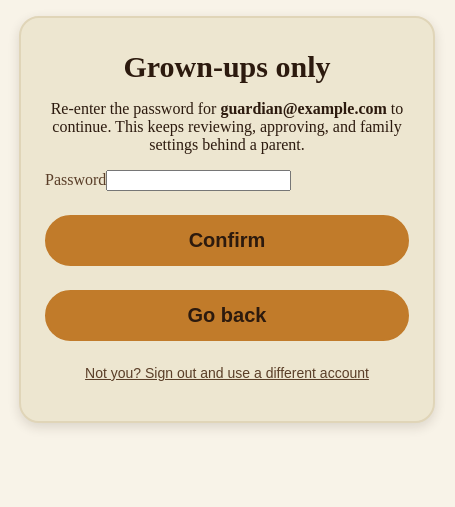
Test: AdultGate › reports a rate limit distinctly, without inviting an instant retry
Check: the heading "Grown-ups only" is shown, box [124, 50, 330, 83]
Type "whatever" into the password field labelled "Password" at (199, 180), box [106, 170, 291, 191]
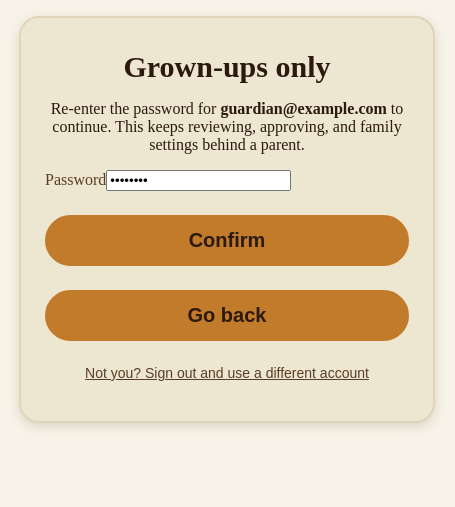
Click the button "Confirm" at (227, 240), box [45, 215, 409, 266]
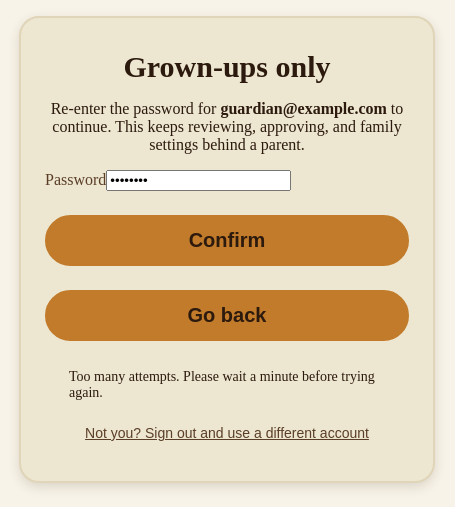
Check: the message "Too many attempts. Please wait a minute before trying again." does not show "check your connection", box [69, 369, 385, 401]
Check: the message "Too many attempts. Please wait a minute before trying again." is shown, box [69, 369, 385, 401]
